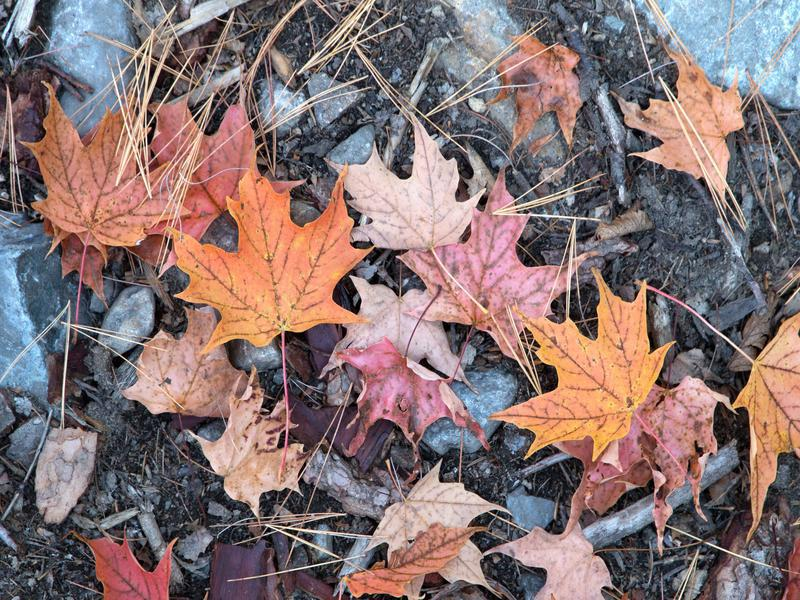leaf: (165, 168, 383, 356), (487, 268, 681, 461), (394, 166, 588, 359), (22, 78, 192, 252), (627, 32, 747, 219), (184, 362, 310, 526), (334, 340, 490, 466), (482, 30, 590, 157)
